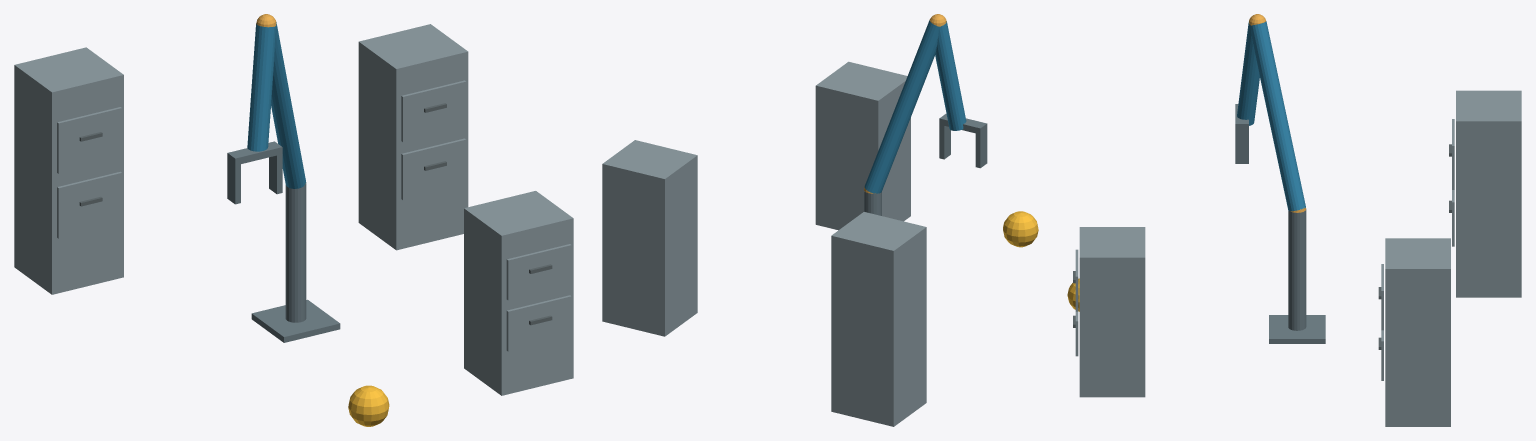
The picture shows the model from 3 angles, left to right: view 1: azimuth 30°, elevation 25°; view 2: azimuth 150°, elevation 25°; view 3: azimuth 270°, elevation 25°; orthographic projection. The views are drawn at different scales.
Parts seen in each view (by area): view 1: cabinet_3 body, cabinet_2 body, cabinet_1 body, cabinet_3 drawer front.001, cabinet_3 drawer front, cabinet_2 drawer front, cabinet_2 drawer front.001, fixed post, cabinet_1 drawer front, cabinet_1 drawer front.001, moving link 2, moving link 1 (+5 smaller); view 2: cabinet_3 body, cabinet_2 body, cabinet_1 body, moving link 1, moving link 2, ball ball_1, gripper finger -1; view 3: cabinet_3 body, cabinet_2 body, cabinet_1 body, moving link 1, fixed post, pedestal, moving link 2, gripper finger 1.
Boxes of the visible parts, x1,y1,x2,y2 form: cabinet_3 body: (14, 47, 123, 294); cabinet_2 body: (358, 24, 468, 250); cabinet_1 body: (464, 191, 573, 395); cabinet_3 drawer front.001: (57, 107, 121, 173); cabinet_3 drawer front: (57, 171, 121, 238); cabinet_2 drawer front: (401, 138, 466, 200); cabinet_2 drawer front.001: (401, 80, 466, 142); fixed post: (285, 183, 306, 322); cabinet_1 drawer front: (506, 295, 571, 351); cabinet_1 drawer front.001: (506, 244, 571, 300); moving link 2: (247, 23, 275, 151); moving link 1: (271, 22, 306, 188); cabinet_3 body: (831, 212, 926, 426); cabinet_2 body: (602, 140, 697, 336); cabinet_1 body: (815, 61, 910, 230); moving link 1: (864, 20, 938, 193); moving link 2: (935, 21, 966, 130); ball ball_1: (1003, 211, 1038, 247); gripper finger -1: (975, 130, 987, 168); cabinet_3 body: (1456, 90, 1521, 297); cabinet_2 body: (1385, 238, 1450, 426); cabinet_1 body: (1079, 227, 1145, 397); moving link 1: (1250, 21, 1305, 211); fixed post: (1288, 209, 1306, 330); pedestal: (1269, 315, 1325, 343); moving link 2: (1237, 22, 1259, 125); gripper finger 1: (1235, 130, 1248, 163).
Bounding box in the file's own units: 1.67 × 1.44 × 2.01.
